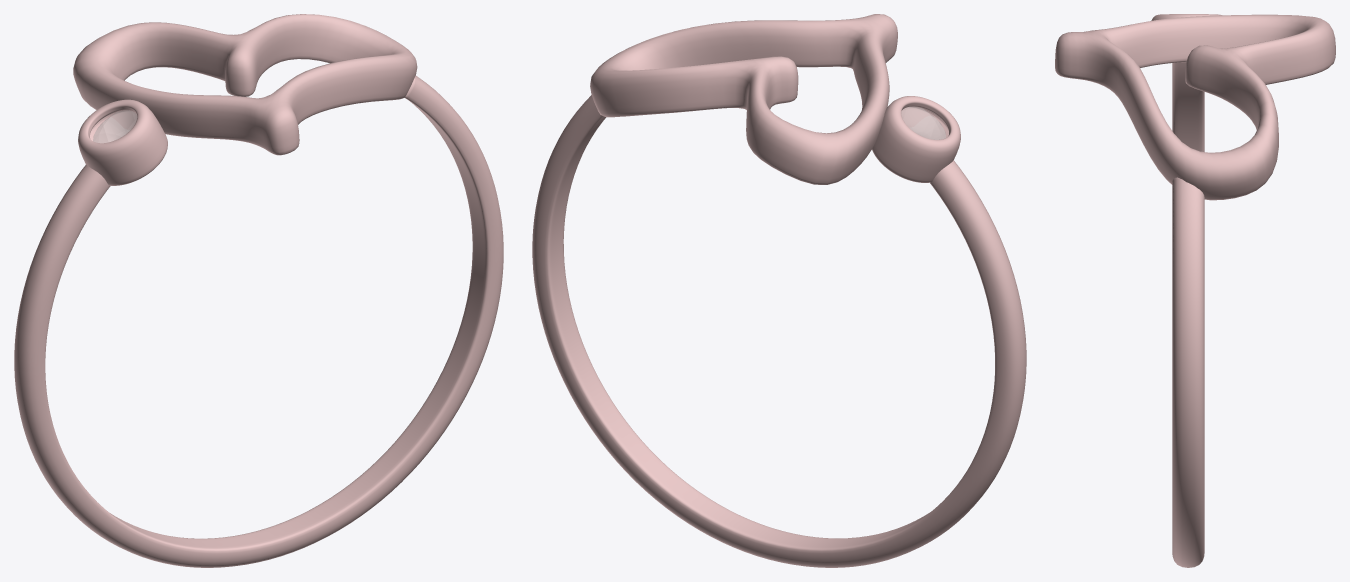
Rendered from HeartRing.glb.
3 views of the same model, side by side, from view 1: azimuth 30°, elevation 25°; view 2: azimuth 150°, elevation 25°; view 3: azimuth 270°, elevation 25° (orthographic). The views are drawn at different scales.
Visible parts, largest first — view 1: Circle, Plane, Cylinder, dobj; view 2: Circle, Plane, Cylinder, dobj; view 3: Plane, Circle.
Part boxes in pixels (x1,y1,x2,y2): Circle: (14, 76, 503, 567); Plane: (73, 14, 417, 155); Cylinder: (78, 99, 167, 185); dobj: (93, 110, 136, 142); Circle: (532, 95, 1026, 567); Plane: (590, 14, 897, 184); Cylinder: (872, 96, 960, 182); dobj: (901, 107, 945, 139); Plane: (1055, 14, 1335, 200); Circle: (1172, 62, 1204, 567).
Bounding box in the file's own units: 1.63 × 1.63 × 0.8404.
